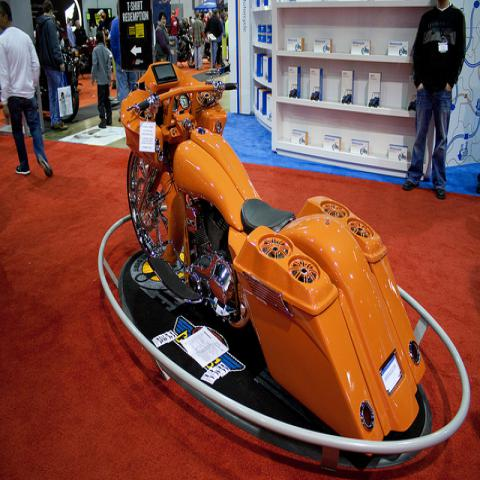motorcycle: (120, 57, 428, 437), (61, 49, 87, 124)
